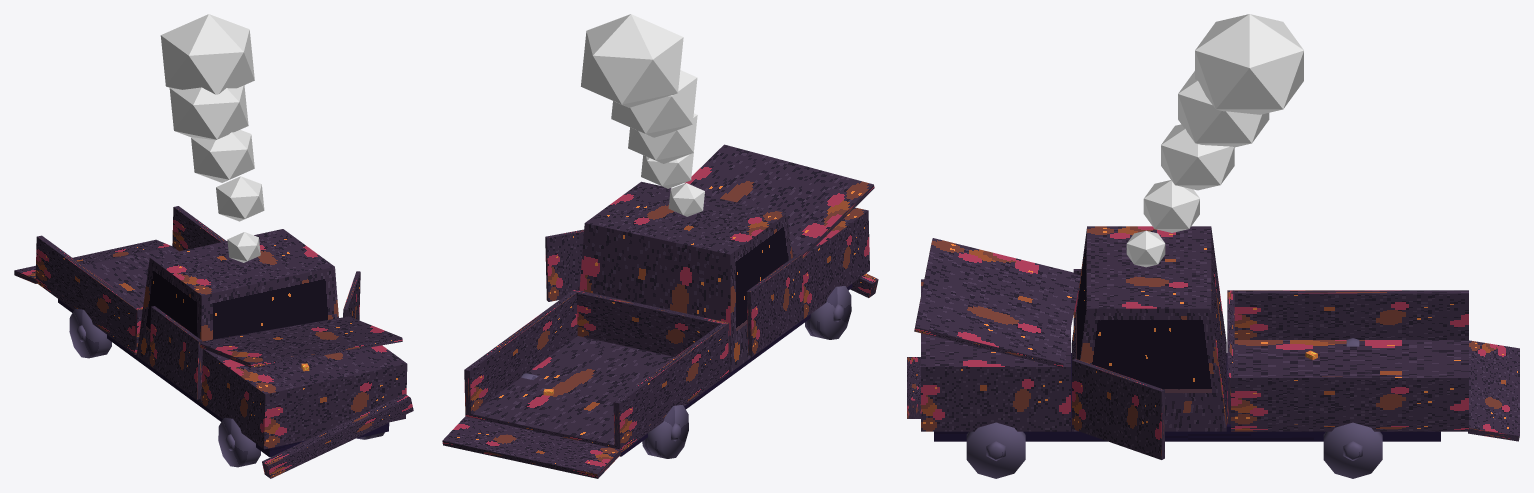
The model's file is Burnt Pickup.fbx.
3 views of the same model, side by side, from view 1: azimuth 30°, elevation 25°; view 2: azimuth 150°, elevation 25°; view 3: azimuth 270°, elevation 25° (orthographic). The views are drawn at different scales.
Parts seen in each view (by area): view 1: Burnt Pickup cab, Burnt Pickup engine bay, Burnt Pickup smoke 4, Burnt Pickup hood.001, Burnt Pickup bed side -1, Burnt Pickup smoke 3, Burnt Pickup door L.001, Burnt Pickup bumper, Burnt Pickup bed floor, Burnt Pickup smoke 2, Burnt Pickup smoke 1, Burnt Pickup bed side 1 (+6 smaller); view 2: Burnt Pickup cab, Burnt Pickup bed floor, Burnt Pickup hood.001, Burnt Pickup smoke 4, Burnt Pickup bed front, Burnt Pickup bed side -1, Burnt Pickup bed side 1, Burnt Pickup tailgate.001, Burnt Pickup engine bay, Burnt Pickup door L.001, Burnt Pickup smoke 3, Burnt Pickup door R.001 (+6 smaller); view 3: Burnt Pickup cab, Burnt Pickup hood.001, Burnt Pickup engine bay, Burnt Pickup bed side 1, Burnt Pickup bed side -1, Burnt Pickup bed floor, Burnt Pickup smoke 4, Burnt Pickup door R.001, Burnt Pickup tailgate.001, Burnt Pickup chassis, Burnt Pickup smoke 3, Burnt Pickup smoke 2 (+6 smaller).
Part boxes in pixels (<box>): Burnt Pickup cab: <box>136,229,338,403</box>; Burnt Pickup engine bay: <box>201,345,407,449</box>; Burnt Pickup smoke 4: <box>160,14,254,94</box>; Burnt Pickup hood.001: <box>200,316,402,367</box>; Burnt Pickup bed side -1: <box>35,235,140,348</box>; Burnt Pickup smoke 3: <box>169,85,248,140</box>; Burnt Pickup door L.001: <box>149,306,202,399</box>; Burnt Pickup bumper: <box>262,394,413,478</box>; Burnt Pickup bed floor: <box>35,246,178,354</box>; Burnt Pickup smoke 2: <box>191,130,254,182</box>; Burnt Pickup smoke 1: <box>216,176,264,221</box>; Burnt Pickup bed side 1: <box>172,206,225,251</box>; Burnt Pickup cab: <box>579,181,801,372</box>; Burnt Pickup bed floor: <box>465,336,728,452</box>; Burnt Pickup hood.001: <box>685,144,874,258</box>; Burnt Pickup smoke 4: <box>581,14,683,107</box>; Burnt Pickup bed front: <box>571,289,730,366</box>; Burnt Pickup bed side -1: <box>613,323,728,446</box>; Burnt Pickup bed side 1: <box>464,290,577,413</box>; Burnt Pickup tailgate.001: <box>442,416,620,478</box>; Burnt Pickup engine bay: <box>801,207,869,320</box>; Burnt Pickup door L.001: <box>746,253,803,355</box>; Burnt Pickup smoke 3: <box>611,70,697,137</box>; Burnt Pickup door R.001: <box>545,229,584,301</box>; Burnt Pickup cab: <box>1071,226,1226,431</box>; Burnt Pickup hood.001: <box>914,238,1080,367</box>; Burnt Pickup engine bay: <box>921,279,1070,431</box>; Burnt Pickup bed side 1: <box>1231,375,1468,424</box>; Burnt Pickup bed side -1: <box>1231,290,1468,339</box>; Burnt Pickup bed floor: <box>1231,340,1468,431</box>; Burnt Pickup smoke 4: <box>1195,14,1303,114</box>; Burnt Pickup door R.001: <box>1072,358,1164,459</box>; Burnt Pickup tailgate.001: <box>1468,340,1519,441</box>; Burnt Pickup chassis: <box>934,353,1440,441</box>; Burnt Pickup smoke 3: <box>1178,71,1269,147</box>; Burnt Pickup smoke 2: <box>1161,124,1234,190</box>.
Size of the model in its own units: 2.75 by 4.58 by 5.92.
Materials: 7 (4 with a texture image).
